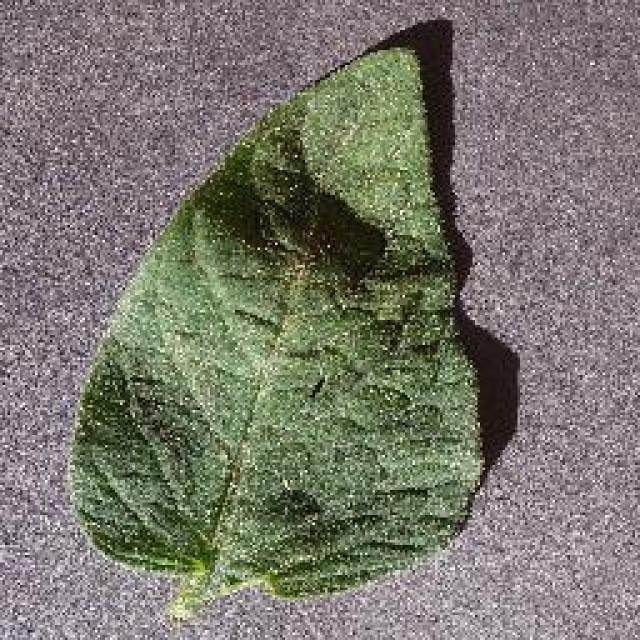Tomato_Healthy: (48, 42, 533, 601)
